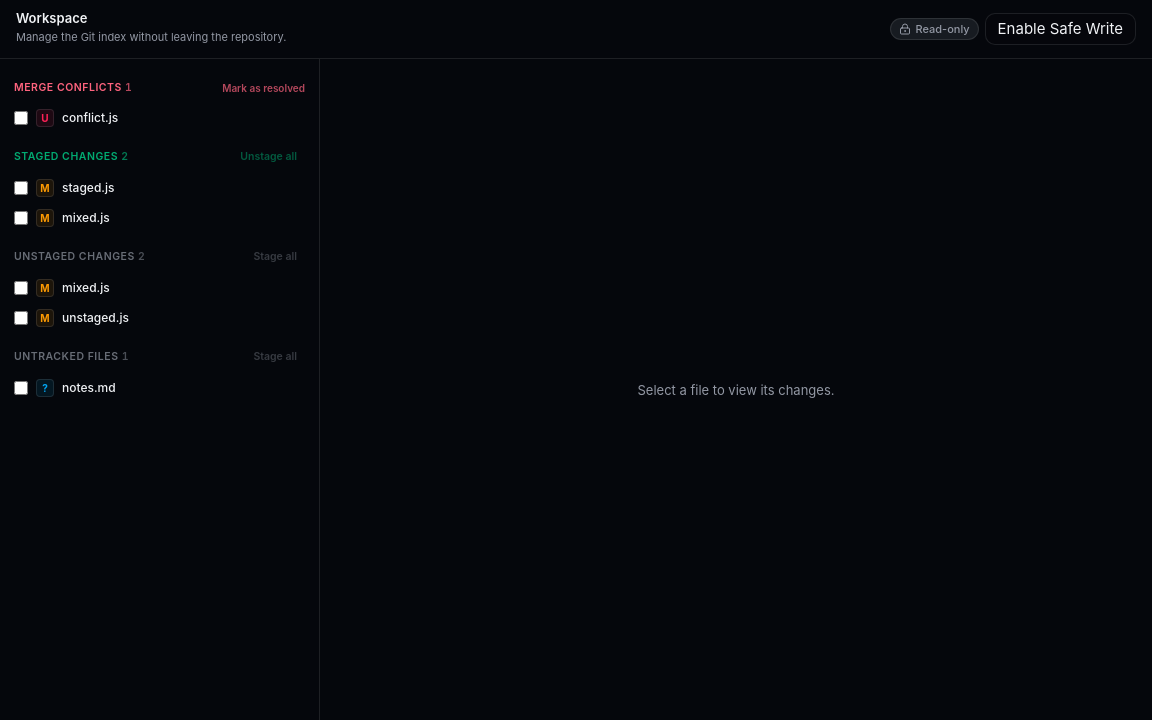
Scenario: WorkspaceView › keeps read-only operations disabled and labels independent status groups
The image size is (1152, 720).
Expected: the text "Read-only" is shown, [890, 18, 979, 40]
Expected: the text "Merge conflicts" is shown, [14, 81, 122, 94]
Click the checkbox named "Select unstaged.js for staging": point(21, 318) [14, 311, 28, 325]
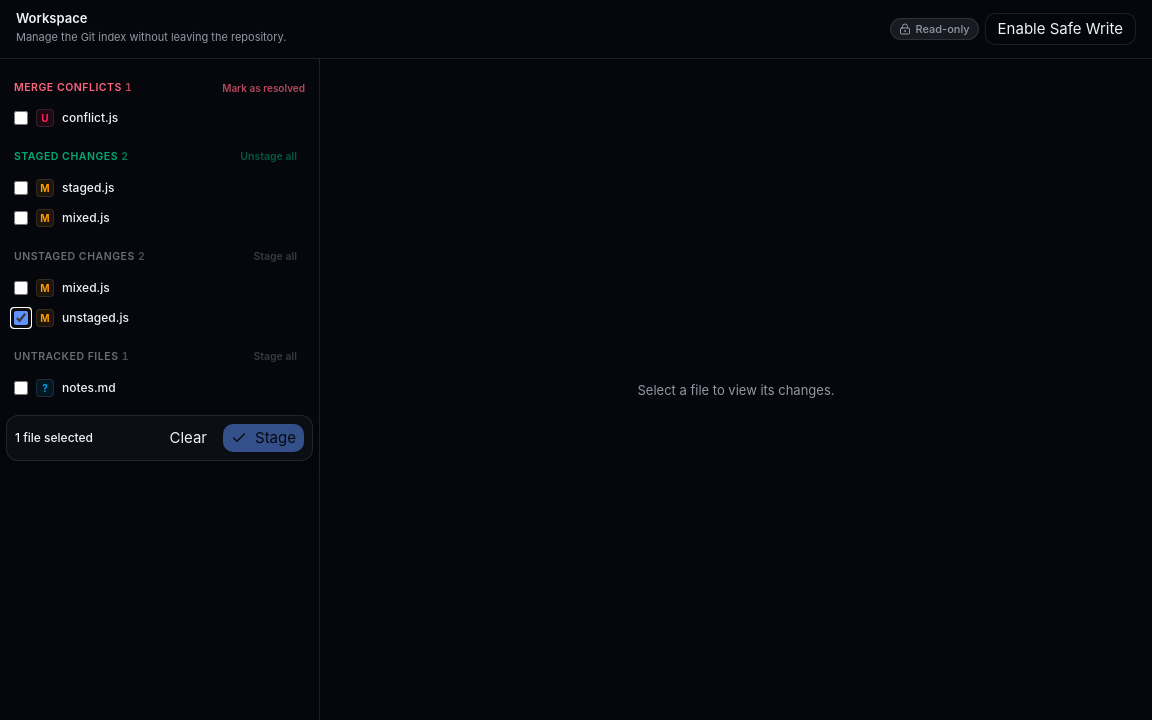
Expected: the text "1 file selected" is shown, [15, 430, 93, 445]
Expected: the button "Stage" is disabled, [223, 424, 304, 452]
